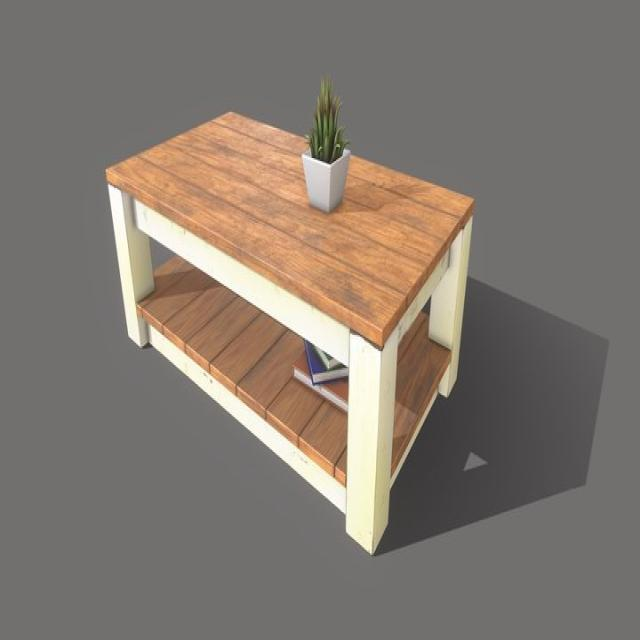books: (294, 344, 356, 418)
plant: (299, 74, 352, 215)
table: (106, 105, 476, 559)
